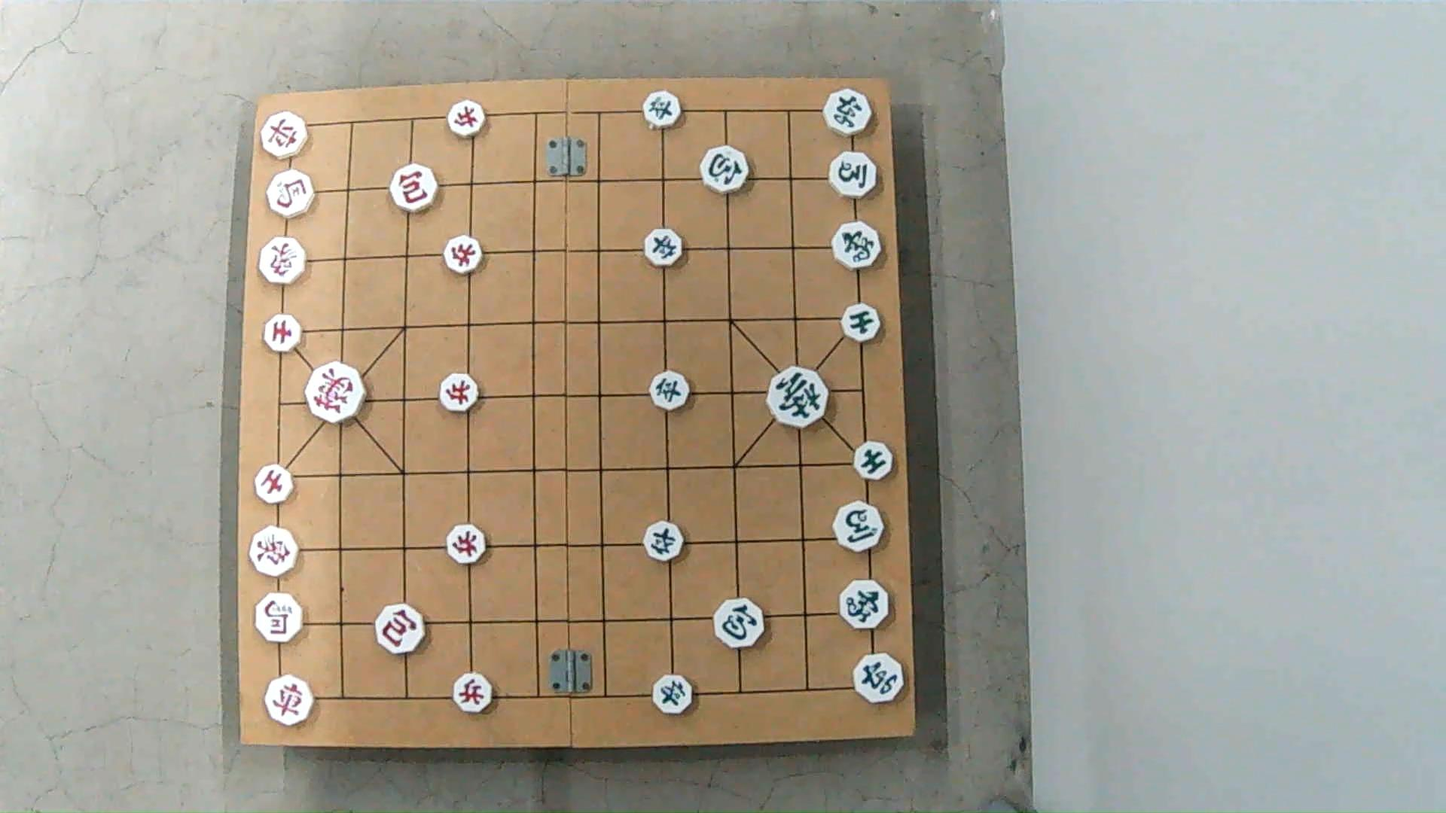cha_green: (852, 650, 906, 705), (819, 90, 871, 134)
cha_red: (266, 677, 318, 723), (258, 115, 307, 159)
jol_green: (643, 227, 685, 269), (650, 675, 695, 712), (641, 524, 685, 561), (646, 375, 688, 410), (642, 93, 683, 126)
jol_red: (442, 233, 487, 276), (439, 373, 483, 413), (453, 674, 496, 711), (447, 527, 489, 564), (447, 104, 487, 137)
ma_green: (830, 502, 884, 550), (826, 154, 878, 198)
ma_red: (266, 168, 316, 218), (254, 595, 305, 642)
po_green: (712, 601, 766, 647), (698, 148, 750, 192)
po_red: (376, 607, 428, 654), (389, 168, 439, 212)
sa_green: (839, 306, 883, 341), (854, 443, 897, 478)
sa_red: (254, 462, 294, 504), (261, 318, 301, 354)
sang_green: (829, 219, 884, 271), (837, 583, 890, 629)
sang_red: (249, 524, 300, 577), (258, 240, 309, 285)
wang_green: (767, 371, 829, 427)
wang_red: (306, 363, 371, 421)
